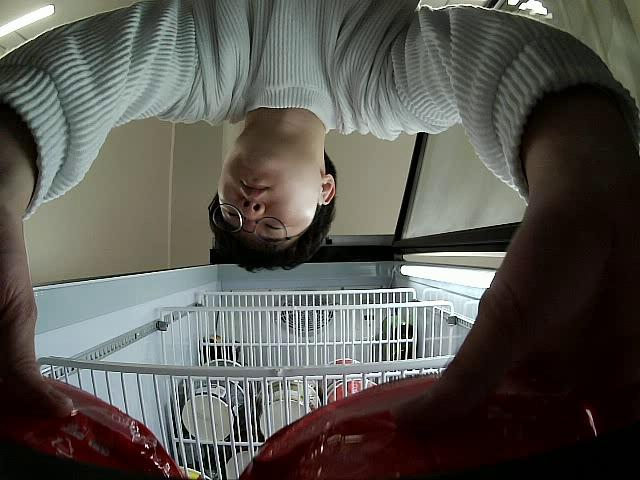00_hand: (380, 177, 640, 429)
10_wangTtukkeong: (236, 361, 640, 480), (6, 368, 193, 480)
